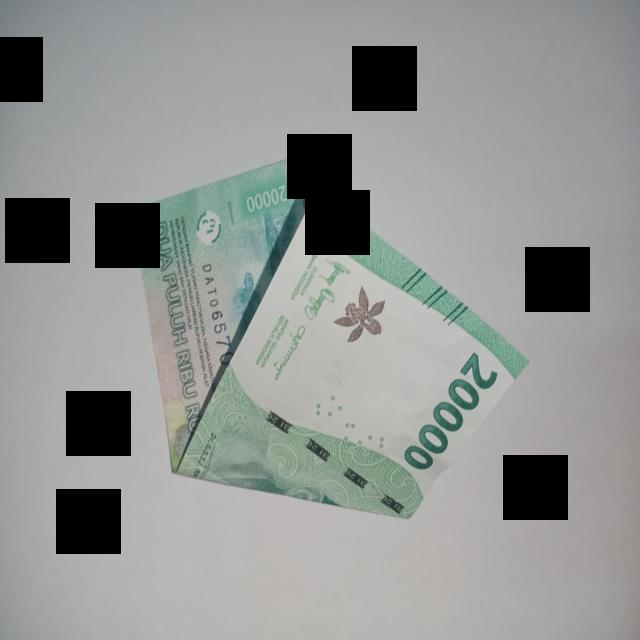dua puluh ribu rupiah: (131, 148, 528, 518)
